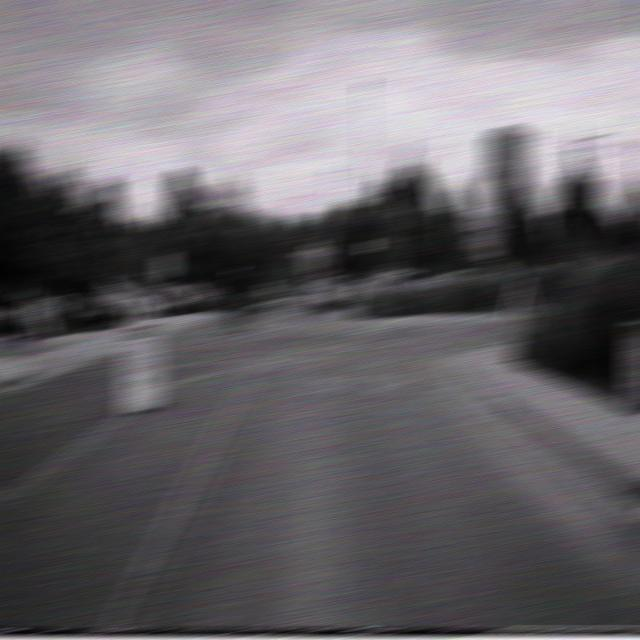stop: (474, 161, 512, 215)
